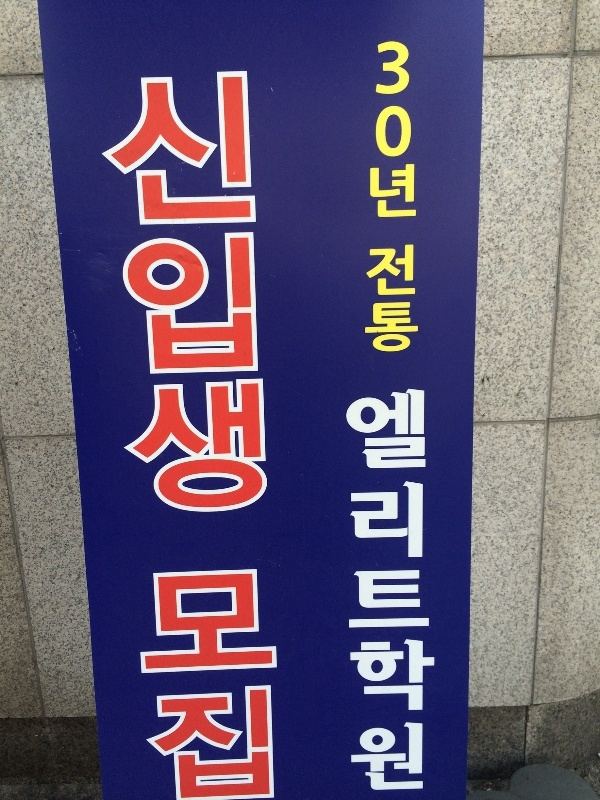text: (97, 61, 112, 525), (113, 61, 128, 525), (129, 61, 144, 525), (145, 61, 160, 525), (161, 61, 176, 525), (177, 61, 192, 525), (193, 61, 208, 525), (209, 61, 224, 525), (225, 61, 240, 525), (241, 61, 256, 525), (257, 61, 271, 525), (353, 380, 368, 797), (369, 380, 384, 797), (385, 380, 400, 797), (401, 380, 416, 797), (417, 380, 432, 797), (385, 35, 400, 355), (401, 35, 416, 355), (145, 570, 160, 800), (161, 570, 176, 800), (177, 570, 192, 800), (193, 570, 208, 800), (209, 570, 224, 800), (225, 570, 240, 800), (241, 570, 256, 800), (257, 570, 272, 800), (345, 380, 352, 797), (377, 35, 384, 355), (433, 380, 438, 797), (137, 570, 144, 800), (417, 35, 422, 355), (273, 570, 279, 800), (95, 61, 96, 525)
